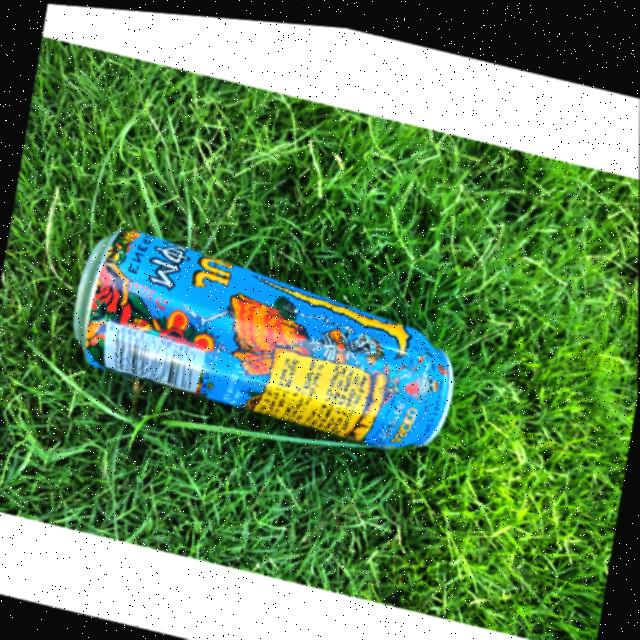Monster Mango Loco: (61, 211, 464, 460)
